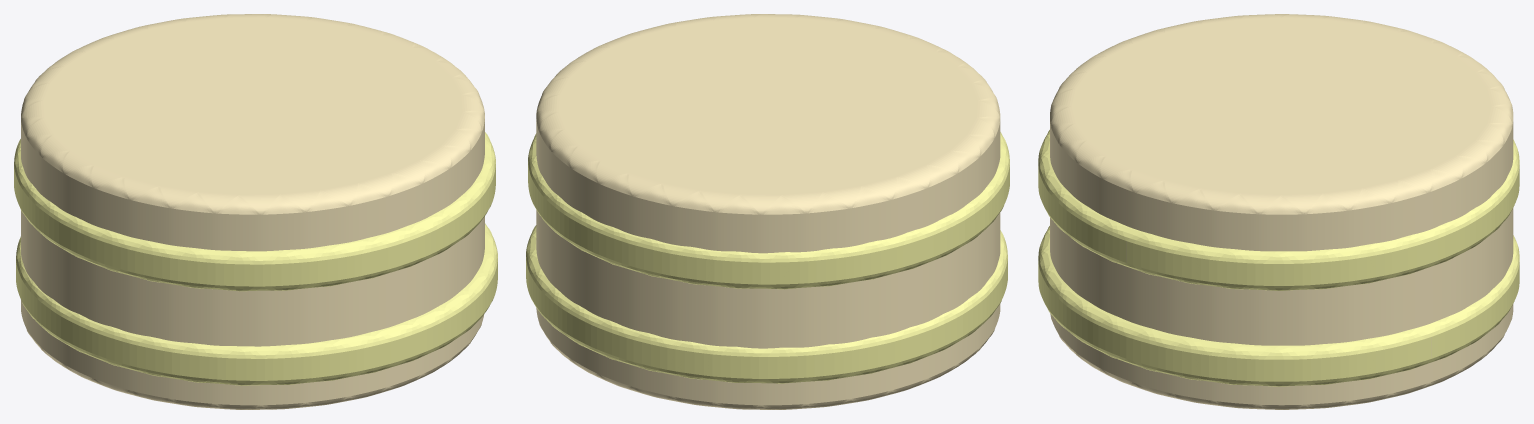
File: bolocilindro baunilha.glb
3 renders of one model, left to right at view 1: azimuth 30°, elevation 25°; view 2: azimuth 150°, elevation 25°; view 3: azimuth 270°, elevation 25°, orthographic.
Visible parts, largest first — view 1: Cylinder.003, Cylinder.001, Cylinder.000; view 2: Cylinder.003, Cylinder.001, Cylinder.000; view 3: Cylinder.003, Cylinder.000, Cylinder.001.
Part boxes in pixels (box(x1,y1,x2,y2)): Cylinder.003: box(21, 14, 484, 409); Cylinder.001: box(14, 132, 495, 291); Cylinder.000: box(16, 223, 497, 385); Cylinder.003: box(536, 14, 1000, 409); Cylinder.001: box(528, 132, 1009, 289); Cylinder.000: box(526, 225, 1007, 383); Cylinder.003: box(1050, 14, 1513, 409); Cylinder.000: box(1038, 226, 1519, 386); Cylinder.001: box(1038, 130, 1519, 290).
Bounding box in the file's own units: 2.7 × 1.3 × 2.68.
